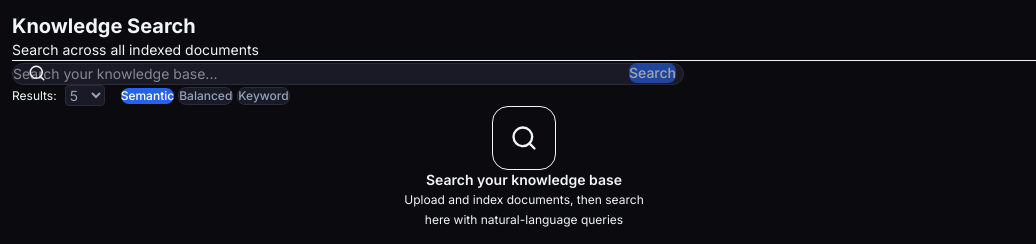
Test: SearchPage › enables search button when input has text
Type "test" into the field with placeholder "Search your knowledge base..." at (348, 74), box [12, 63, 684, 85]
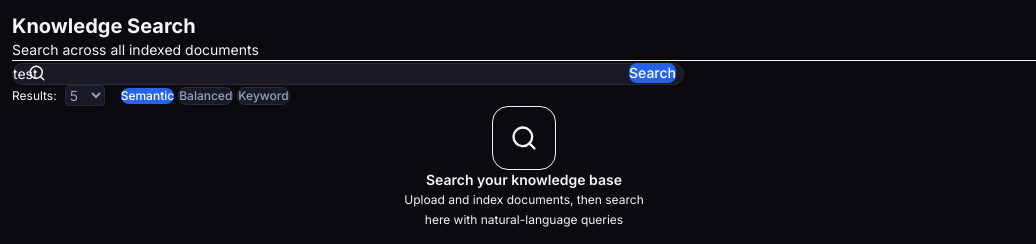
Now the button "Search" is enabled, box [629, 63, 676, 83]
